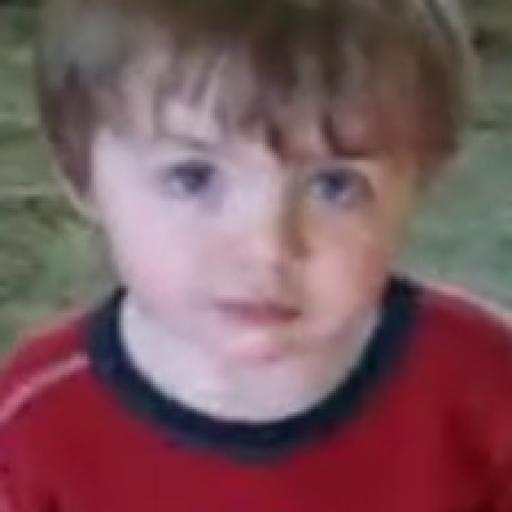Autism: (40, 3, 434, 415)
